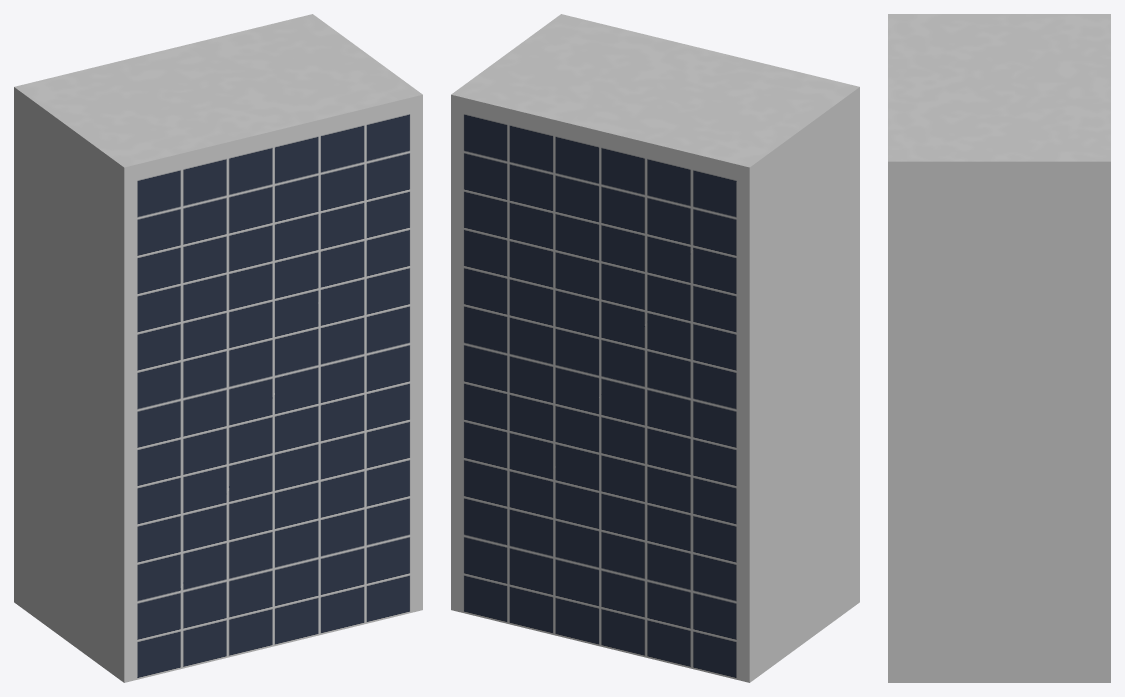
File: Building_S_W5_a_001.fbx
The picture shows the model from 3 angles, left to right: view 1: azimuth 30°, elevation 25°; view 2: azimuth 150°, elevation 25°; view 3: azimuth 270°, elevation 25°; orthographic projection.
Parts seen in each view (by area): view 1: Building_S_W5_a_001; view 2: Building_S_W5_a_001; view 3: Building_S_W5_a_001.
Part boxes in pixels (x1,y1,x2,y2): Building_S_W5_a_001: [14, 14, 422, 682]; Building_S_W5_a_001: [451, 14, 859, 682]; Building_S_W5_a_001: [888, 14, 1110, 682].
Bounding box in the file's own units: 35.89 × 59.17 × 22.93.
